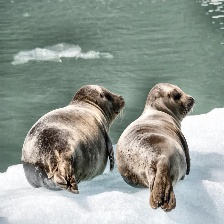seal: (22, 85, 126, 194)
